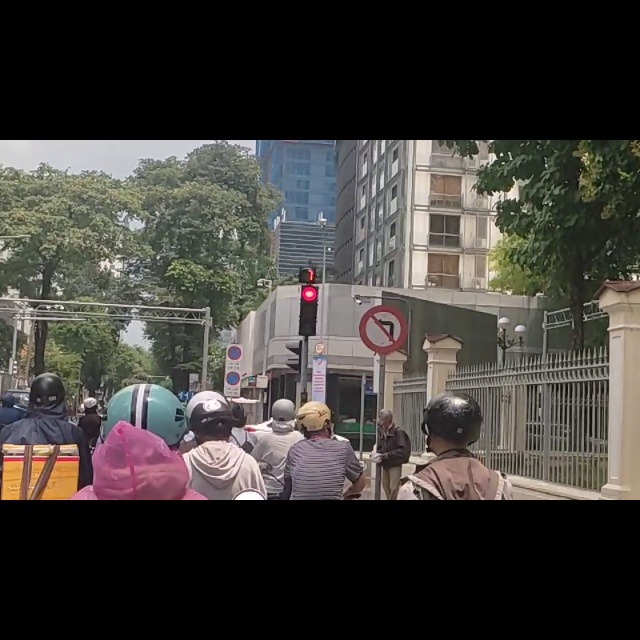bien_cam: (359, 288, 407, 382), (225, 410, 240, 437), (227, 365, 241, 392)
